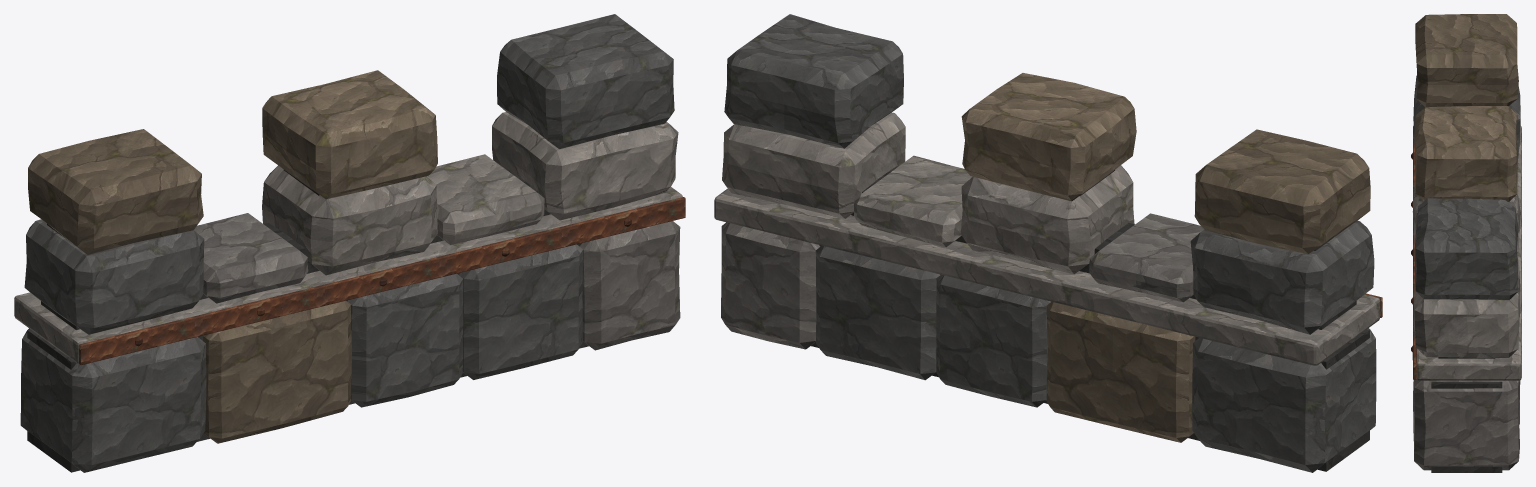
The model's file is battlement__cut_stone.glb.
The picture shows the model from 3 angles, left to right: view 1: azimuth 30°, elevation 25°; view 2: azimuth 150°, elevation 25°; view 3: azimuth 270°, elevation 25°; orthographic projection. The views are drawn at different scales.
Visible parts, largest first — view 1: model; view 2: model; view 3: model.
Boxes of the visible parts, bbox=[...] form: model: bbox=[14, 14, 685, 472]; model: bbox=[714, 14, 1382, 472]; model: bbox=[1411, 14, 1521, 472].
Size of the model in its own units: 1.99 by 0.8815 by 0.3881.
Materials: 8 (8 with a texture image).
